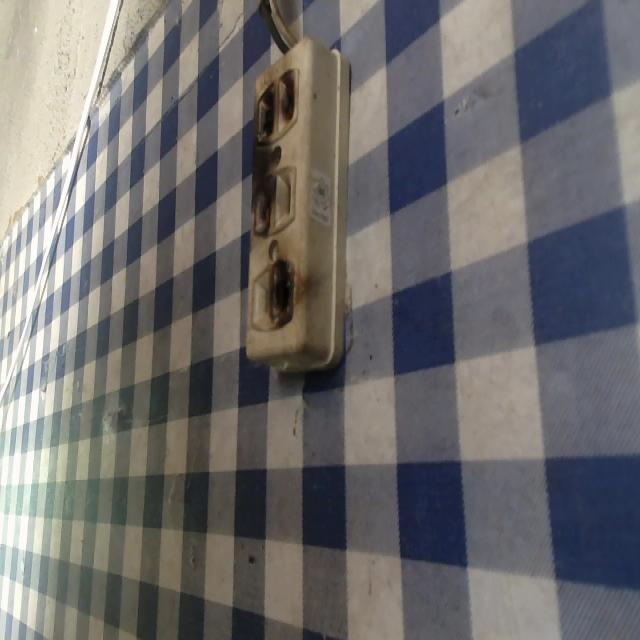-: (252, 68, 310, 147), (262, 255, 302, 329), (248, 165, 277, 238)
